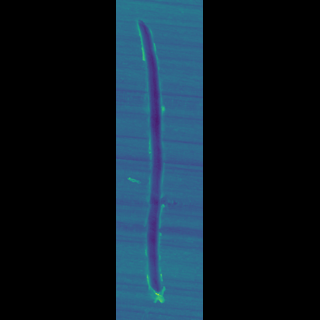Loch: (153, 16, 163, 306), (151, 175, 155, 188)
